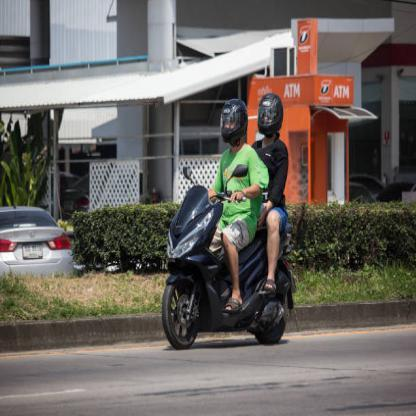Motorcycle: (155, 172, 300, 346)
